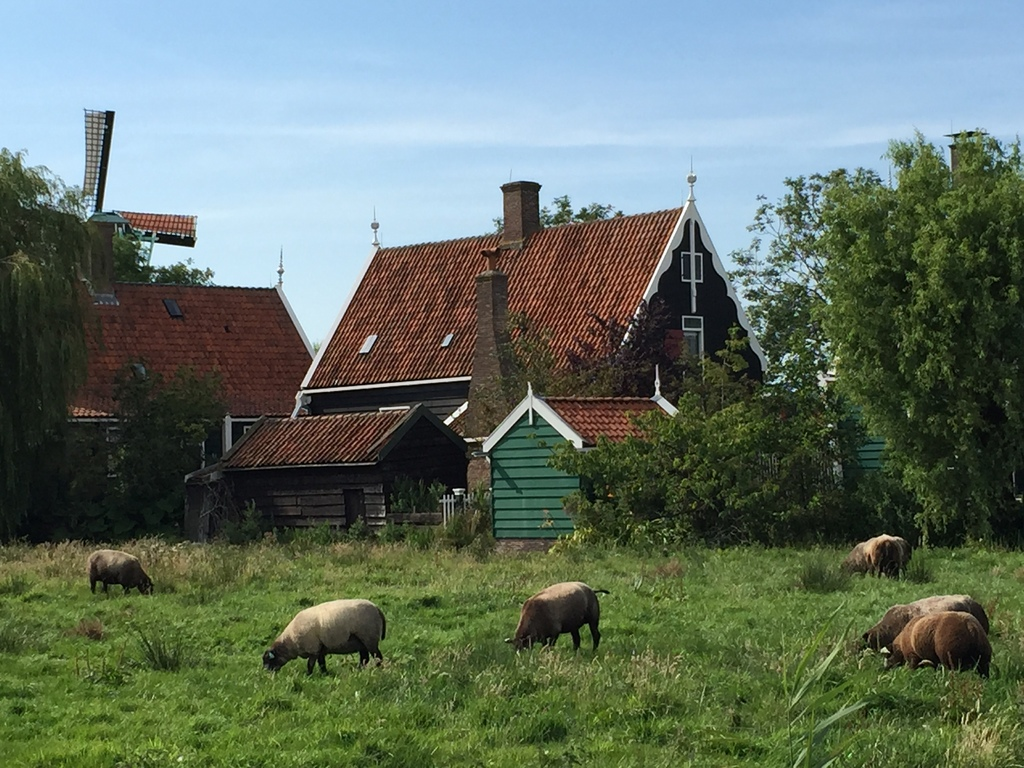sheep: (92, 550, 154, 599)
